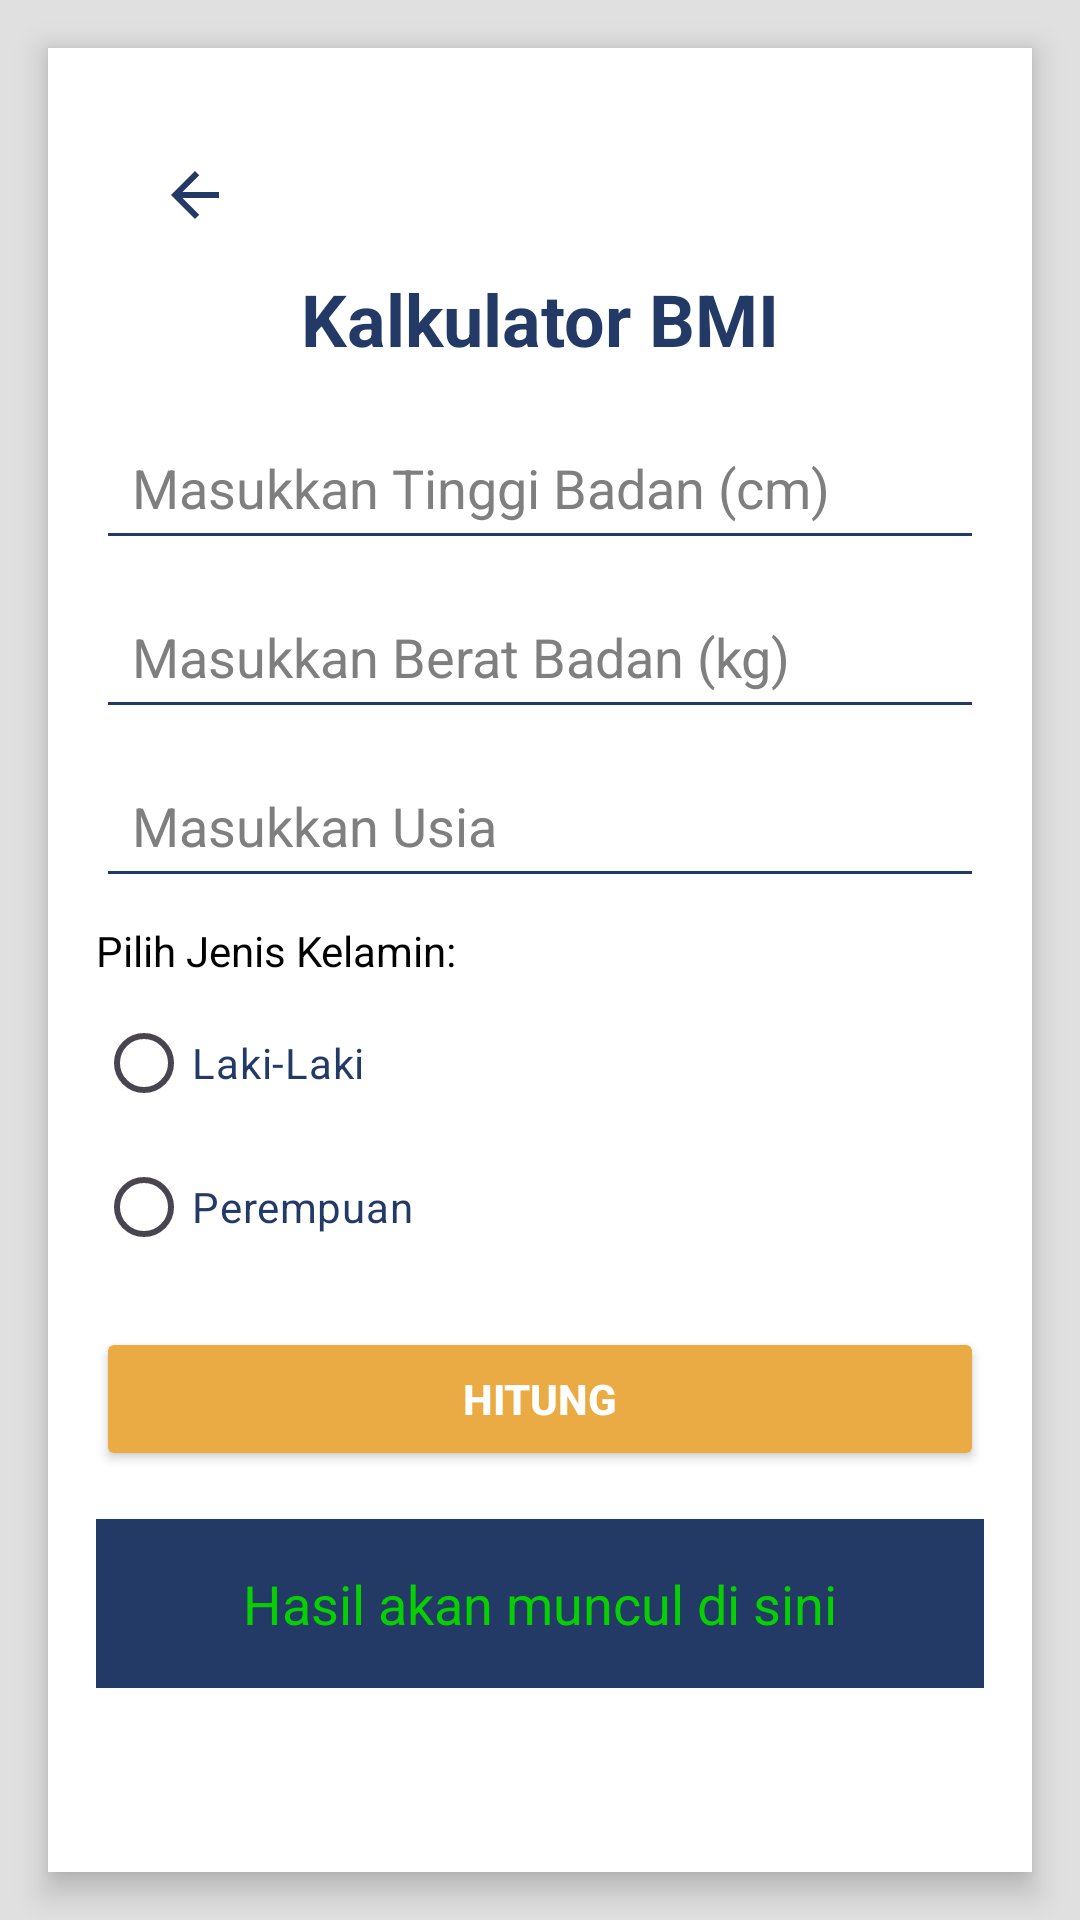

Icons on this 1080x1920 Android screen, each with its box as (x1, y1, x2, y2):
Back Button: (171, 171, 219, 219)
